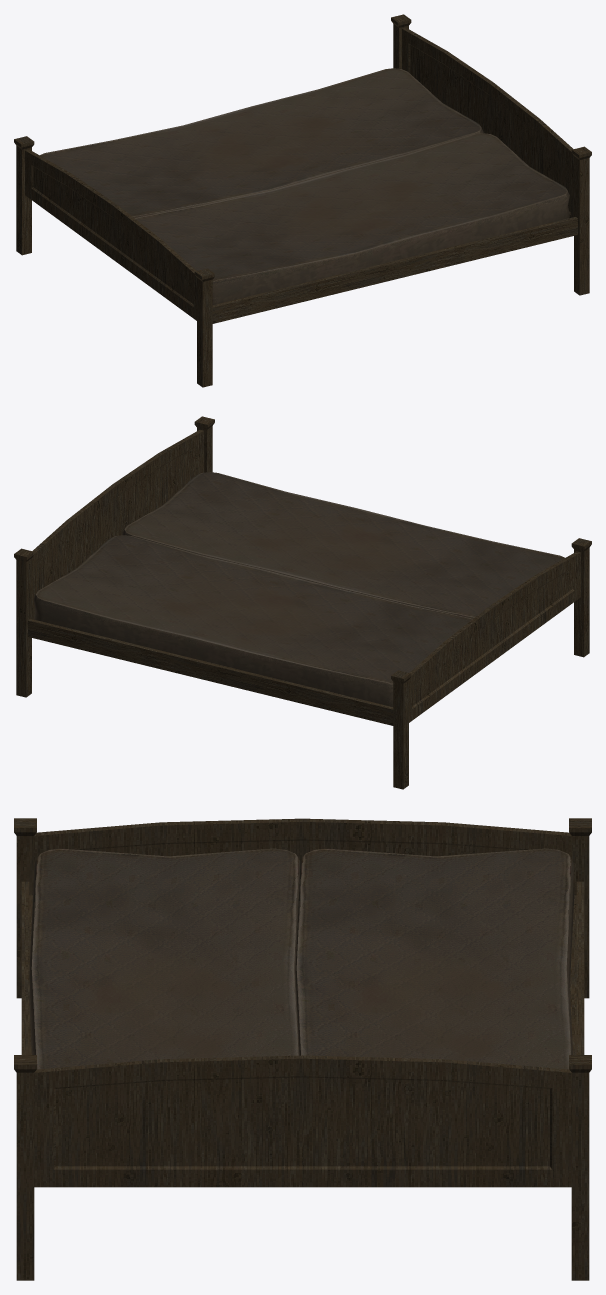
The model's file is bed_4_4.glb.
The picture shows the model from 3 angles, top to bottom: view 1: azimuth 30°, elevation 25°; view 2: azimuth 150°, elevation 25°; view 3: azimuth 270°, elevation 25°; orthographic projection. The views are drawn at different scales.
Visible parts, largest first — view 1: bed_4_4; view 2: bed_4_4; view 3: bed_4_4.
Part boxes in pixels (x1,y1,x2,y2): bed_4_4: [14, 14, 591, 387]; bed_4_4: [14, 416, 591, 789]; bed_4_4: [14, 818, 591, 1280].
Bounding box in the file's own units: 2.74 × 0.9621 × 2.29.
Materials: 2 (2 with a texture image).
